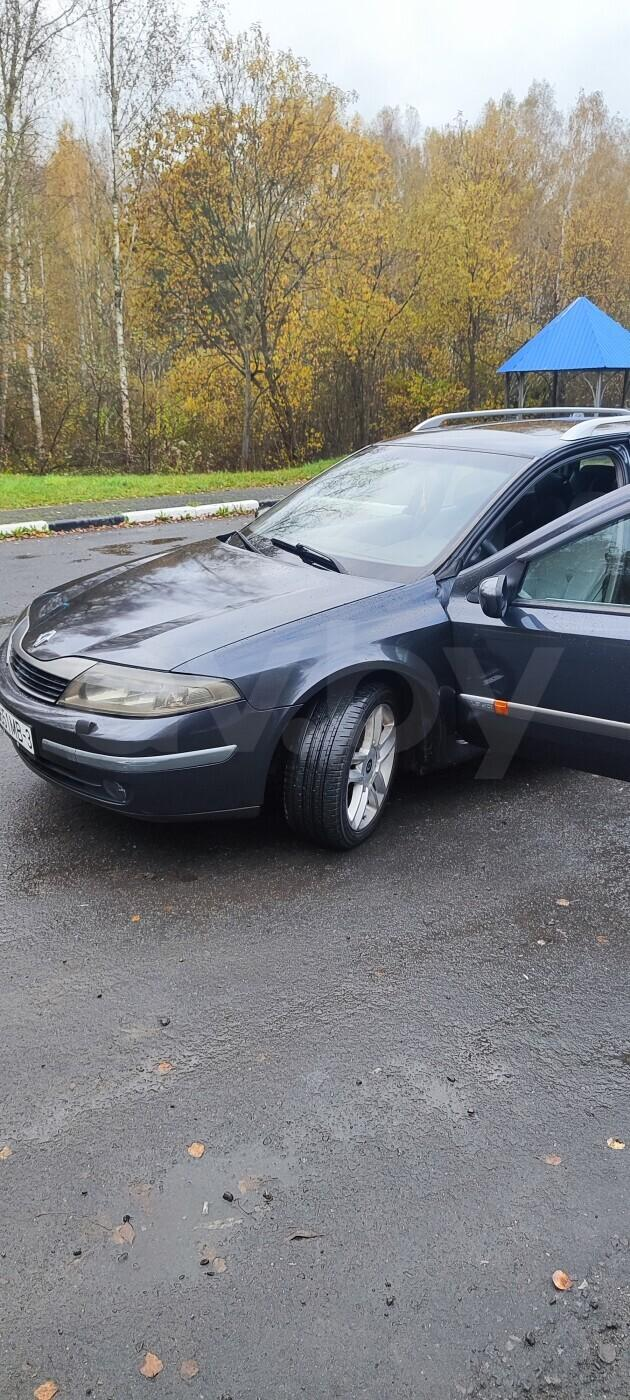Laguna_2001-2005: (0, 408, 629, 850)
